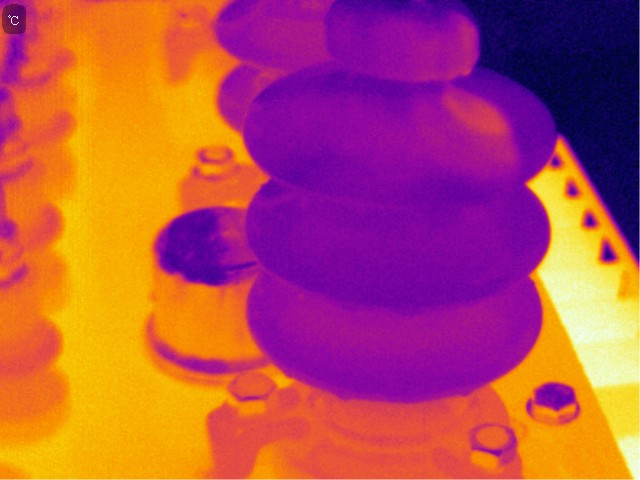Oil: (440, 80, 515, 148), (447, 15, 479, 77)
